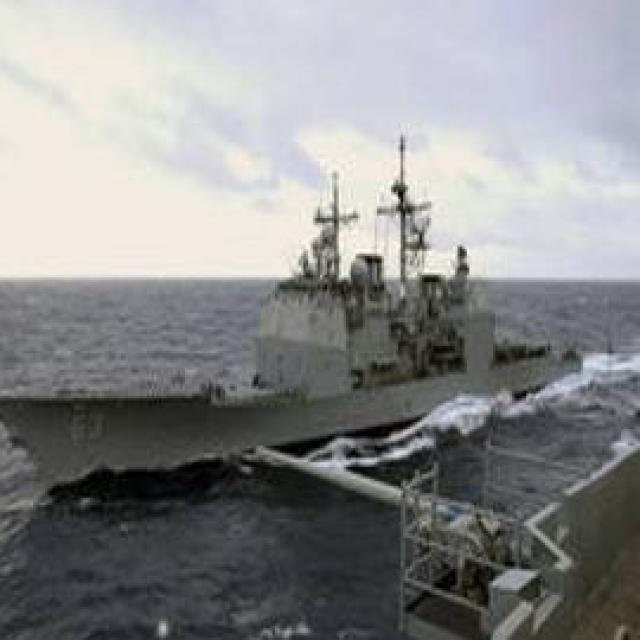navalvessels: (0, 137, 607, 505)
